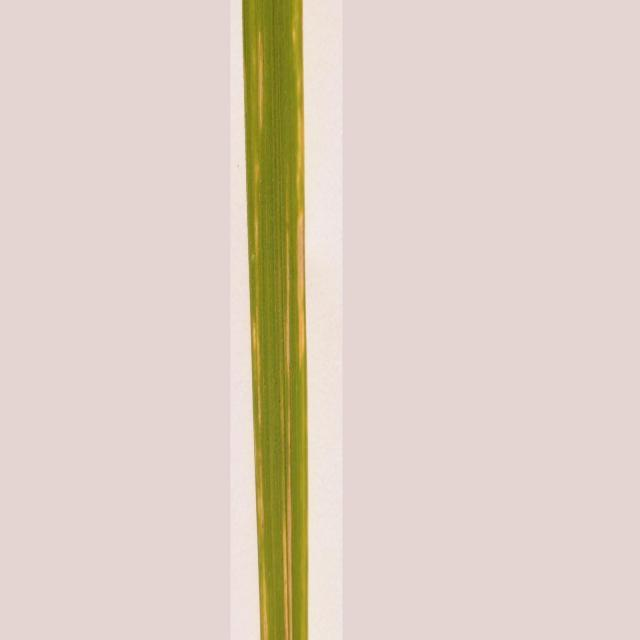leaf blight: (245, 2, 314, 638)
